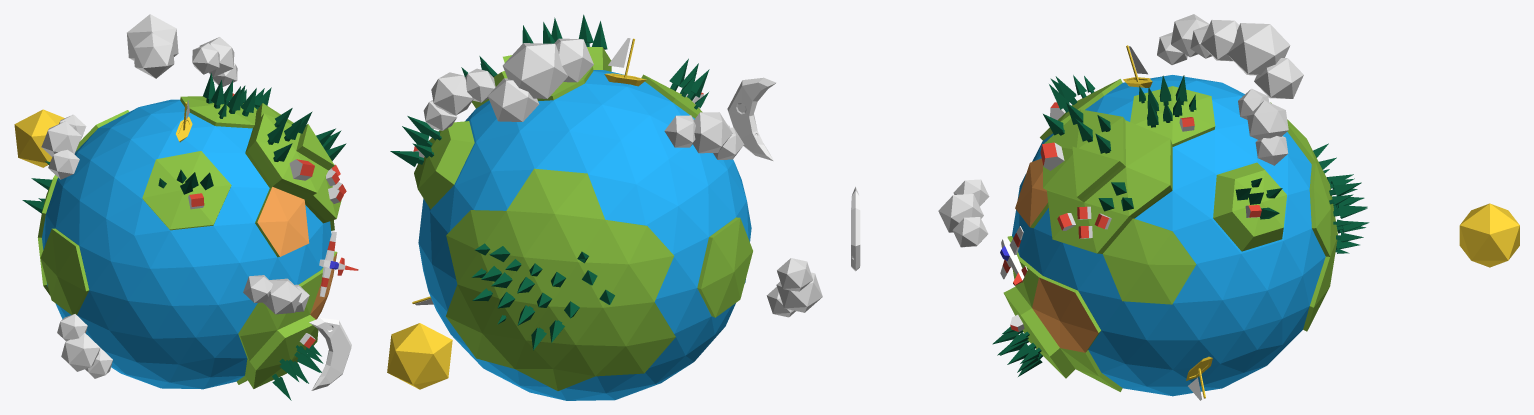
Rendered from earth2.glb.
The picture shows the model from 3 angles, left to right: view 1: azimuth 30°, elevation 25°; view 2: azimuth 150°, elevation 25°; view 3: azimuth 270°, elevation 25°; orthographic projection. The views are drawn at different scales.
Parts seen in each view (by area): view 1: Icosphere.001, Icosphere, Icosphere.006, Icosphere.005, Icosphere.002, Icosphere.003, Icosphere.007, Moon.01, Icosphere.004, Plane.066, Plane.055, Plane.064; view 2: Icosphere, Icosphere.001, Icosphere.006, Icosphere.007, Icosphere.004, Icosphere.002, Icosphere.005, Moon.01, Plane.064; view 3: Icosphere.001, Icosphere, Icosphere.006, Icosphere.007, Icosphere.004, Icosphere.003, Icosphere.002, Plane.066, Moon.01.
Part boxes in pixels (x1=…): Icosphere.001: x1=42, y1=99, x2=331, y2=389; Icosphere: x1=37, y1=96, x2=341, y2=388; Icosphere.006: x1=127, y1=14, x2=178, y2=78; Icosphere.005: x1=57, y1=314, x2=112, y2=378; Icosphere.002: x1=41, y1=114, x2=86, y2=179; Icosphere.003: x1=243, y1=275, x2=309, y2=314; Icosphere.007: x1=14, y1=109, x2=64, y2=167; Moon.01: x1=309, y1=318, x2=351, y2=390; Icosphere.004: x1=192, y1=37, x2=237, y2=86; Plane.066: x1=319, y1=231, x2=358, y2=296; Plane.055: x1=289, y1=159, x2=314, y2=180; Plane.064: x1=176, y1=100, x2=192, y2=142; Icosphere: x1=414, y1=47, x2=752, y2=390; Icosphere.001: x1=418, y1=70, x2=751, y2=400; Icosphere.006: x1=487, y1=38, x2=593, y2=121; Icosphere.007: x1=387, y1=323, x2=452, y2=389; Icosphere.004: x1=423, y1=68, x2=495, y2=130; Icosphere.002: x1=664, y1=112, x2=744, y2=159; Icosphere.005: x1=766, y1=258, x2=822, y2=317; Moon.01: x1=727, y1=77, x2=776, y2=161; Plane.064: x1=604, y1=38, x2=646, y2=86; Icosphere.001: x1=1012, y1=75, x2=1325, y2=396; Icosphere: x1=1003, y1=79, x2=1337, y2=391; Icosphere.006: x1=1201, y1=19, x2=1303, y2=98; Icosphere.007: x1=1459, y1=203, x2=1519, y2=267; Icosphere.004: x1=1238, y1=88, x2=1288, y2=165; Icosphere.003: x1=938, y1=179, x2=989, y2=247; Icosphere.002: x1=1157, y1=14, x2=1211, y2=64; Plane.066: x1=1000, y1=226, x2=1027, y2=285; Moon.01: x1=851, y1=187, x2=860, y2=271.
Bounding box in the file's own units: 2.39 × 2.51 × 4.22.
